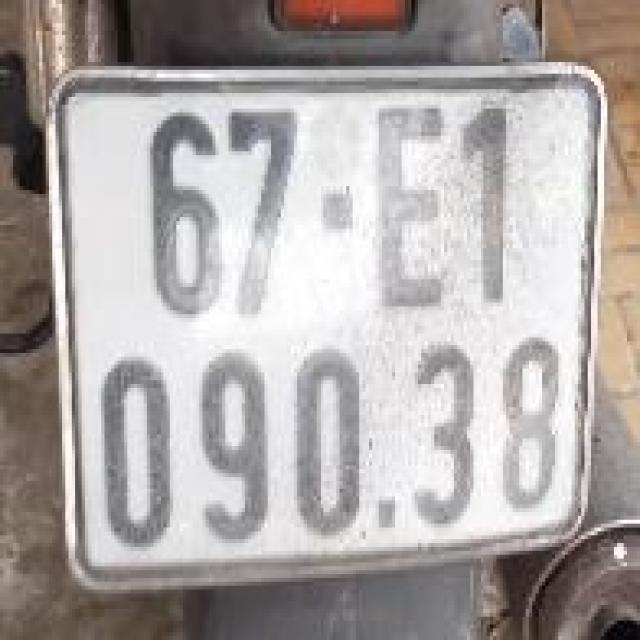0: (92, 341, 176, 574), (286, 343, 374, 557)
1: (460, 95, 532, 320)
3: (403, 335, 485, 545)
6: (128, 106, 228, 328)
7: (217, 91, 305, 336)
8: (491, 326, 573, 547)
9: (191, 338, 273, 554)
E: (366, 93, 454, 322)
